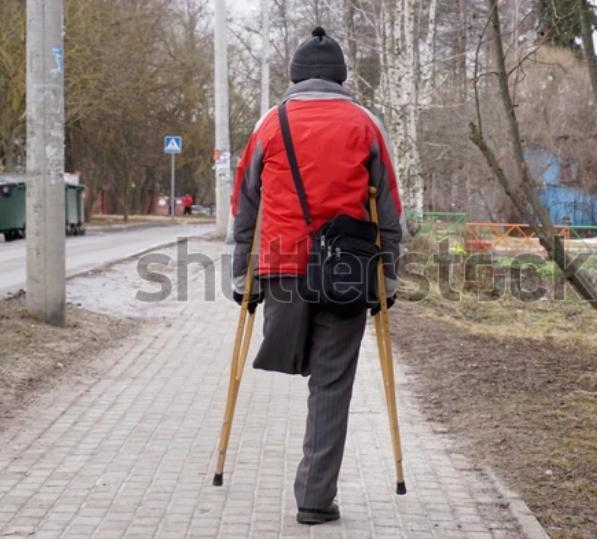crutches: (214, 27, 407, 522)
